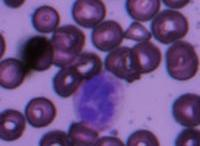N: (72, 70, 125, 132)
